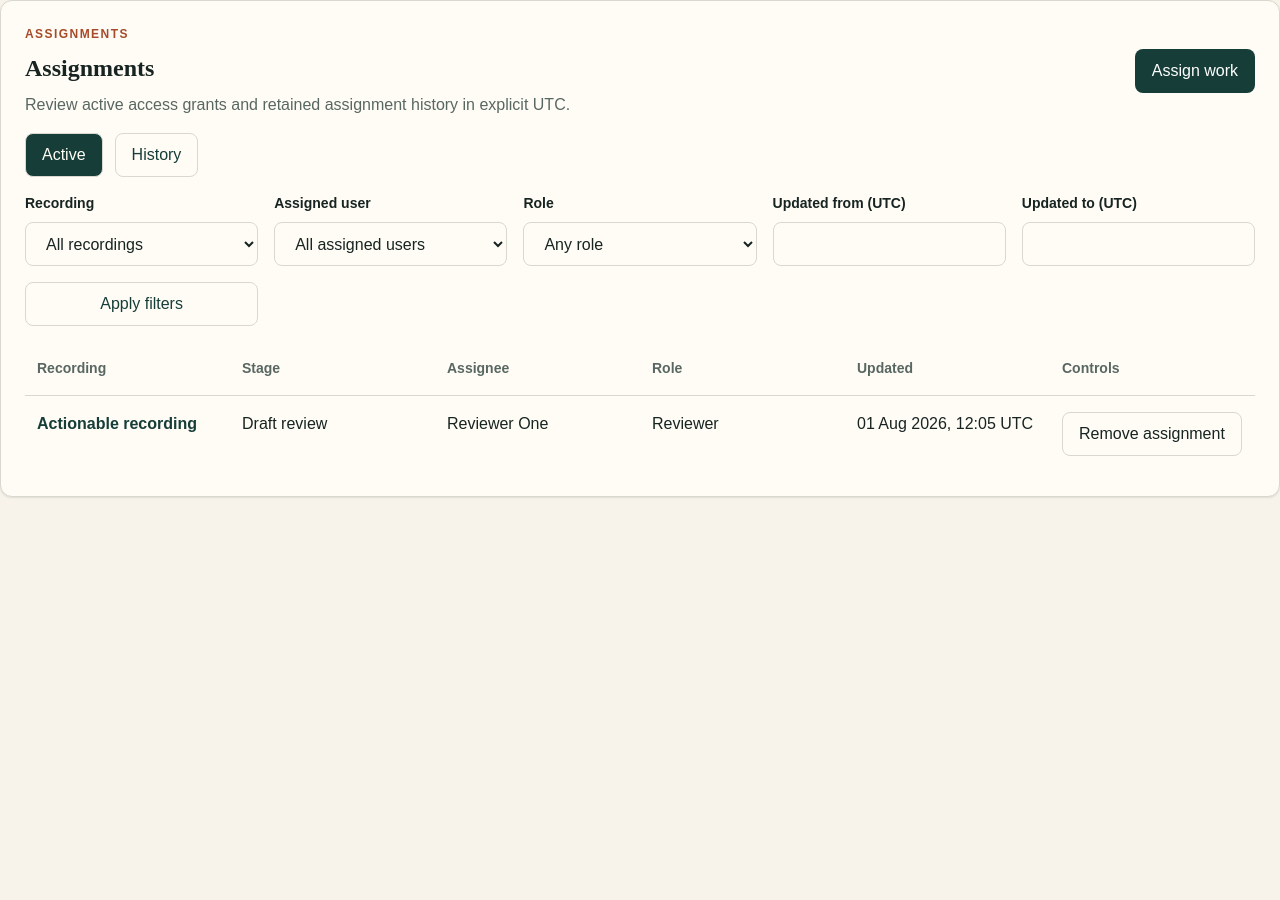
Scenario: AssignmentsSection › filters reviewer and approver users and shows truthful compatibility before submit
Click the button "Assign work" at (1195, 71), box [1135, 49, 1255, 93]
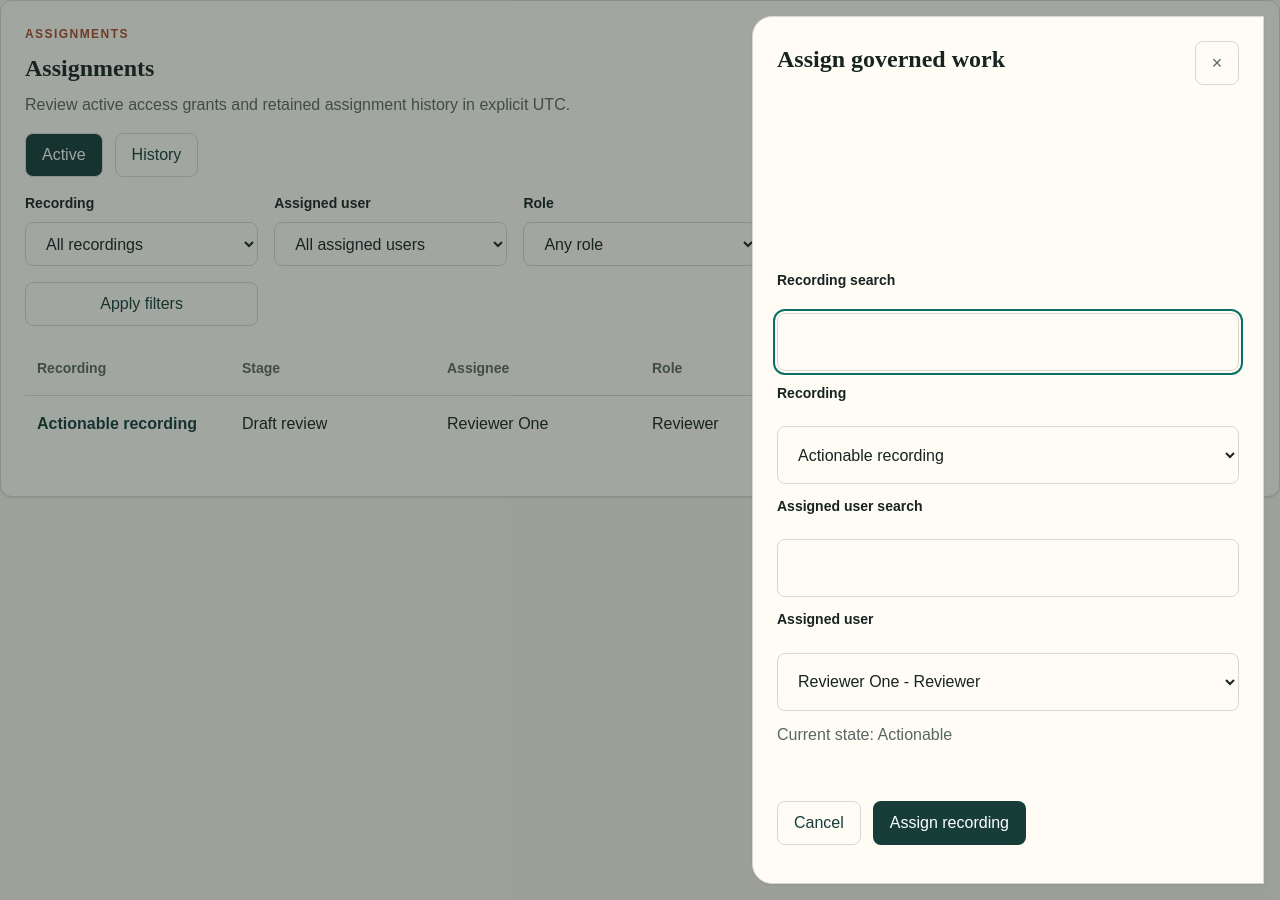
Now the search field labelled "Recording search" is shown, box [777, 313, 1239, 371]
Now the search field labelled "Assigned user search" is shown, box [777, 539, 1239, 598]
Select "Reviewer One - Reviewer" in the dropdown labelled "Assigned user" at (1008, 682), box [777, 653, 1239, 711]
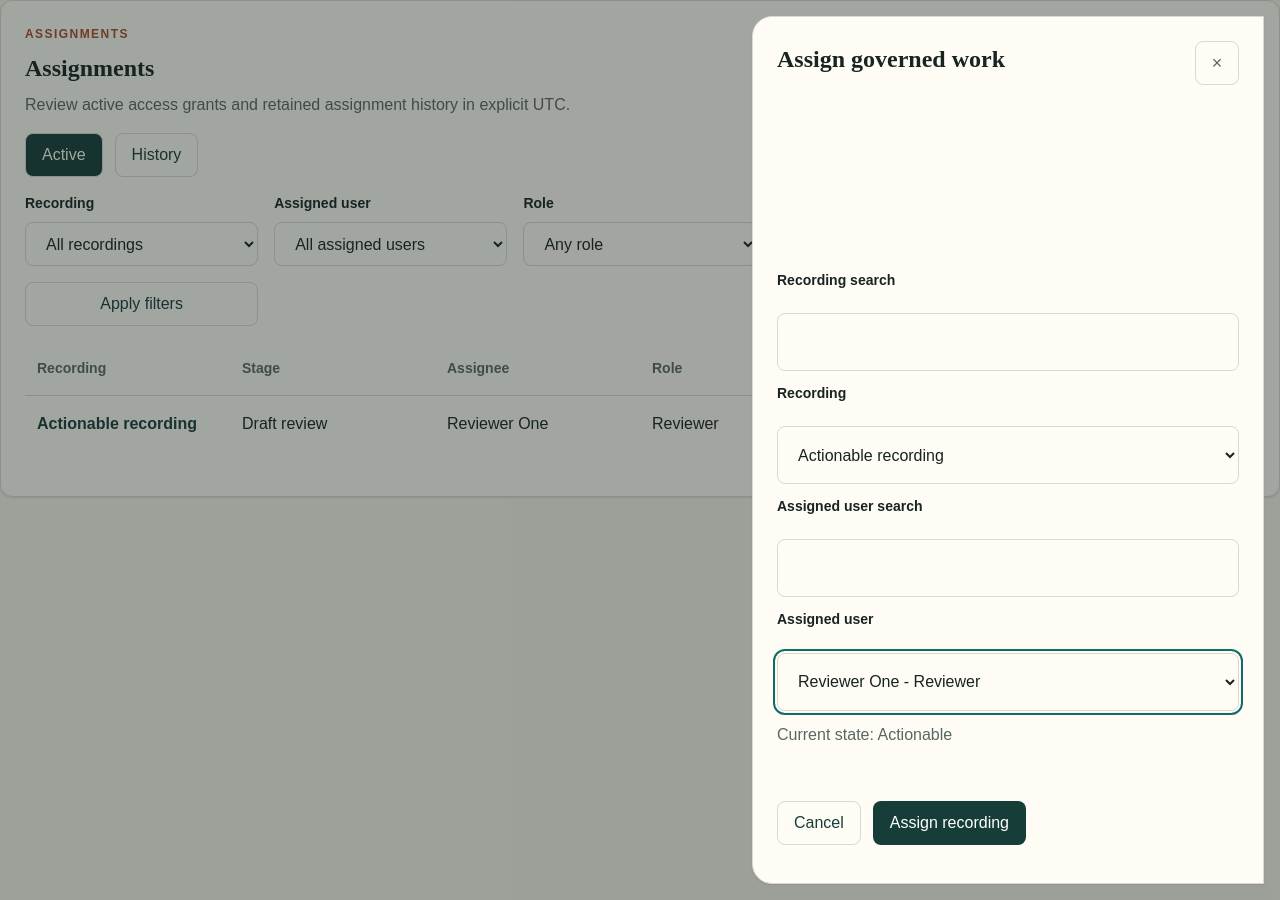
Select "Waiting recording" in the dropdown labelled "Recording" at (1008, 455), box [777, 426, 1239, 484]
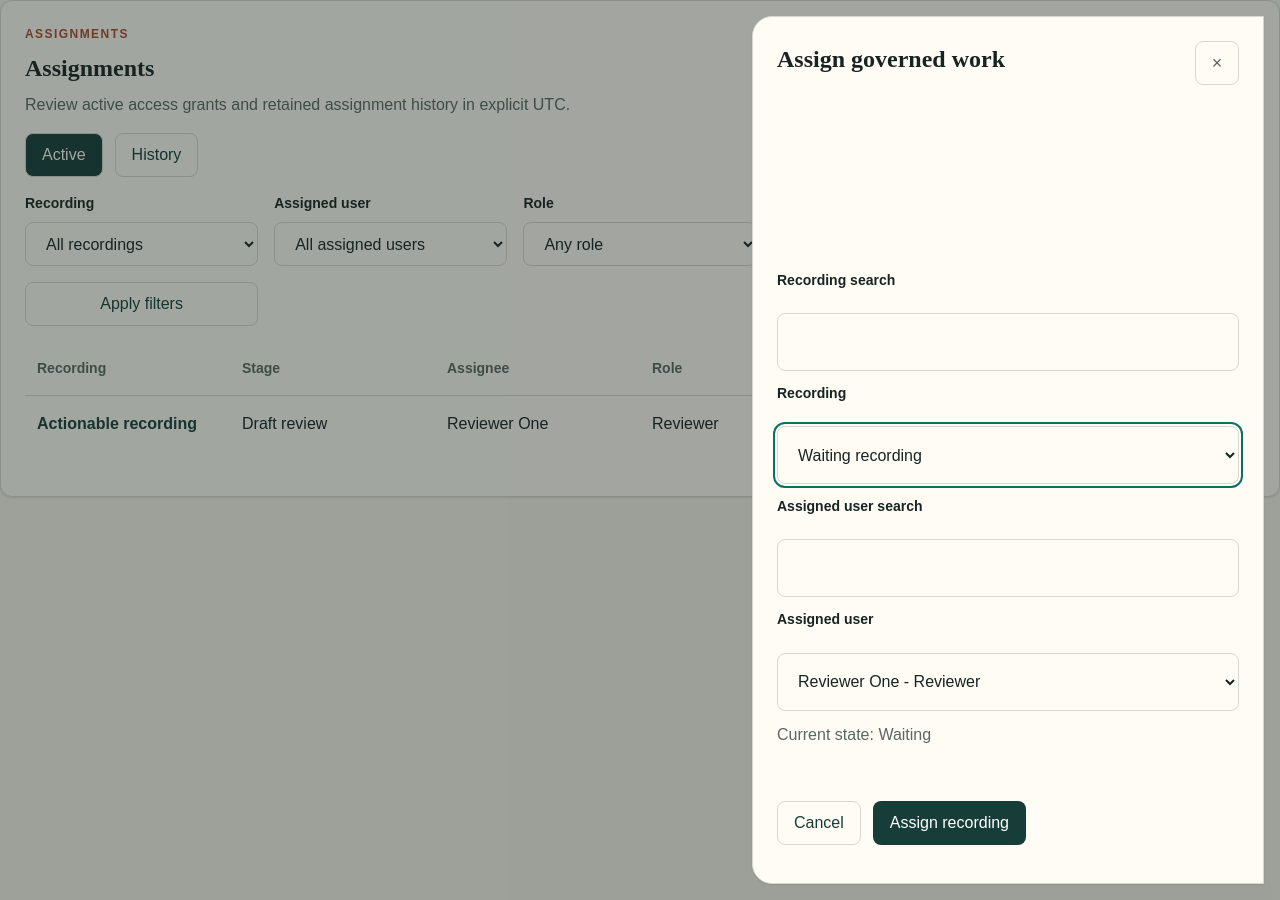
Now the button "Assign recording" is enabled, box [873, 801, 1026, 845]
Now the text "Current state: Waiting" is shown, box [777, 726, 931, 743]
Select "Approved recording" in the dropdown labelled "Recording" at (1008, 455), box [777, 426, 1239, 484]
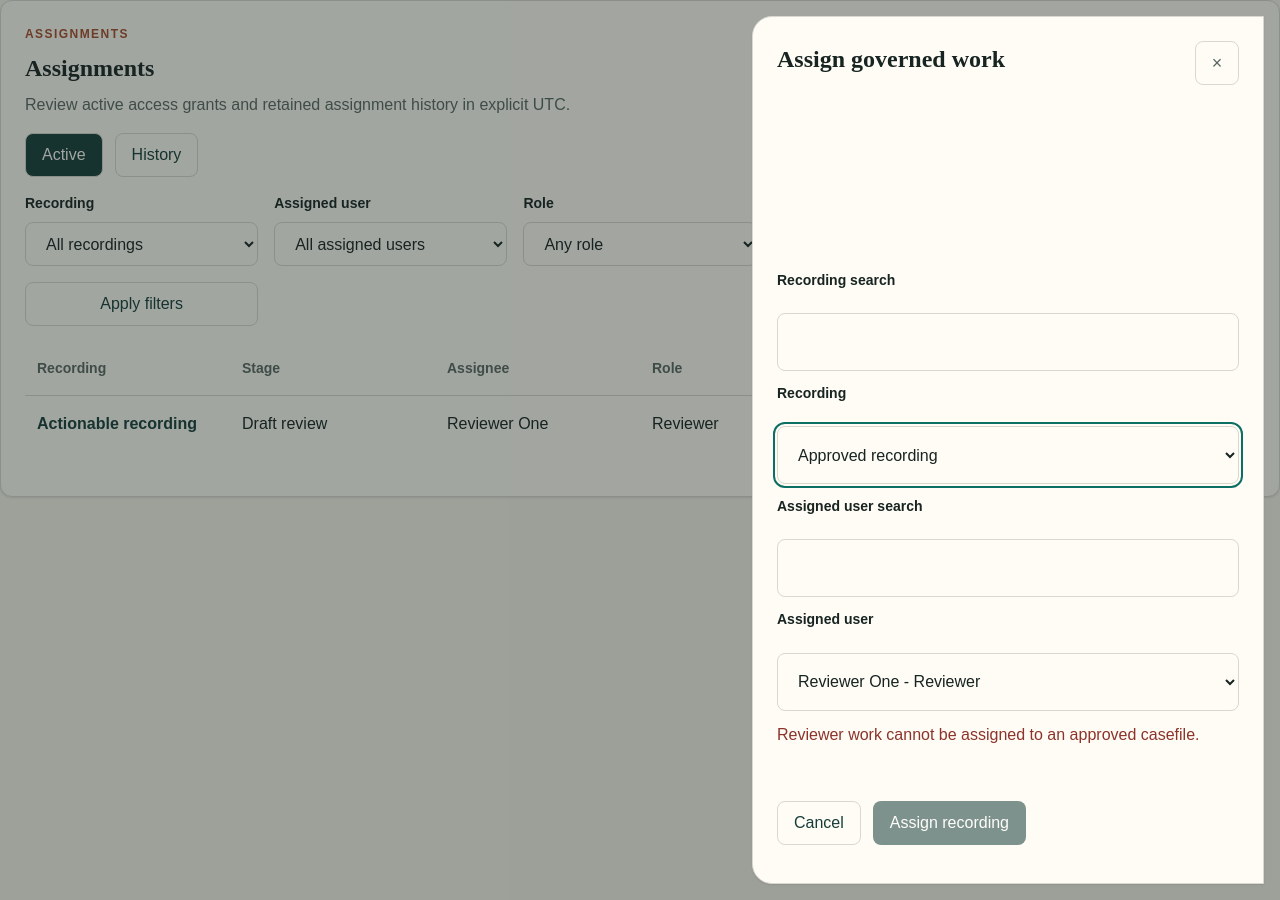
Now the text "Reviewer work cannot be assigned to an approved casefile." is shown, box [777, 726, 1200, 743]
Now the button "Assign recording" is disabled, box [873, 801, 1026, 845]
Select "Approver One - Approver" in the dropdown labelled "Assigned user" at (1008, 682), box [777, 653, 1239, 711]
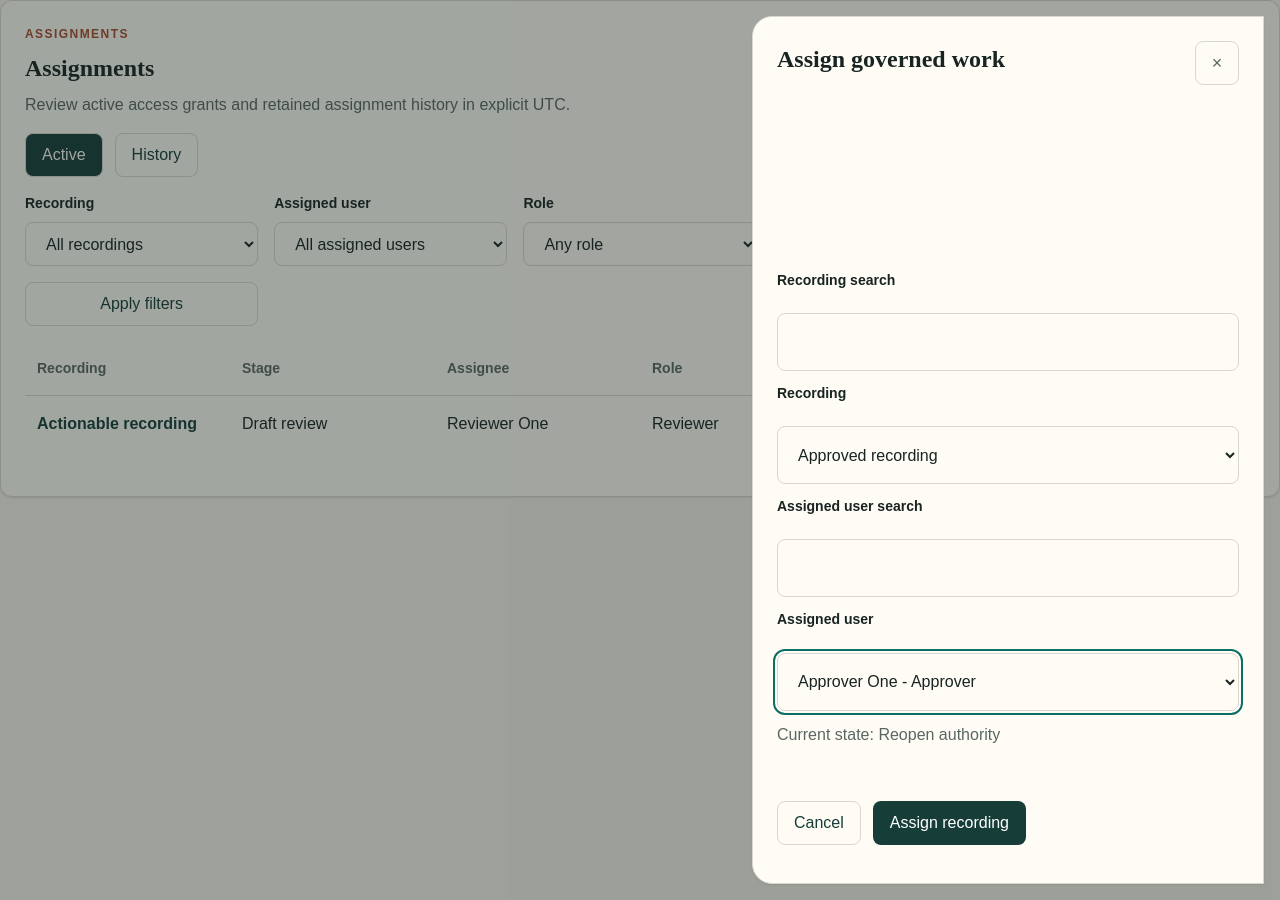
Now the text "Current state: Reopen authority" is shown, box [777, 726, 1000, 743]
Now the button "Assign recording" is enabled, box [873, 801, 1026, 845]
Select "Failed ingest recording" in the dropdown labelled "Recording" at (1008, 455), box [777, 426, 1239, 484]
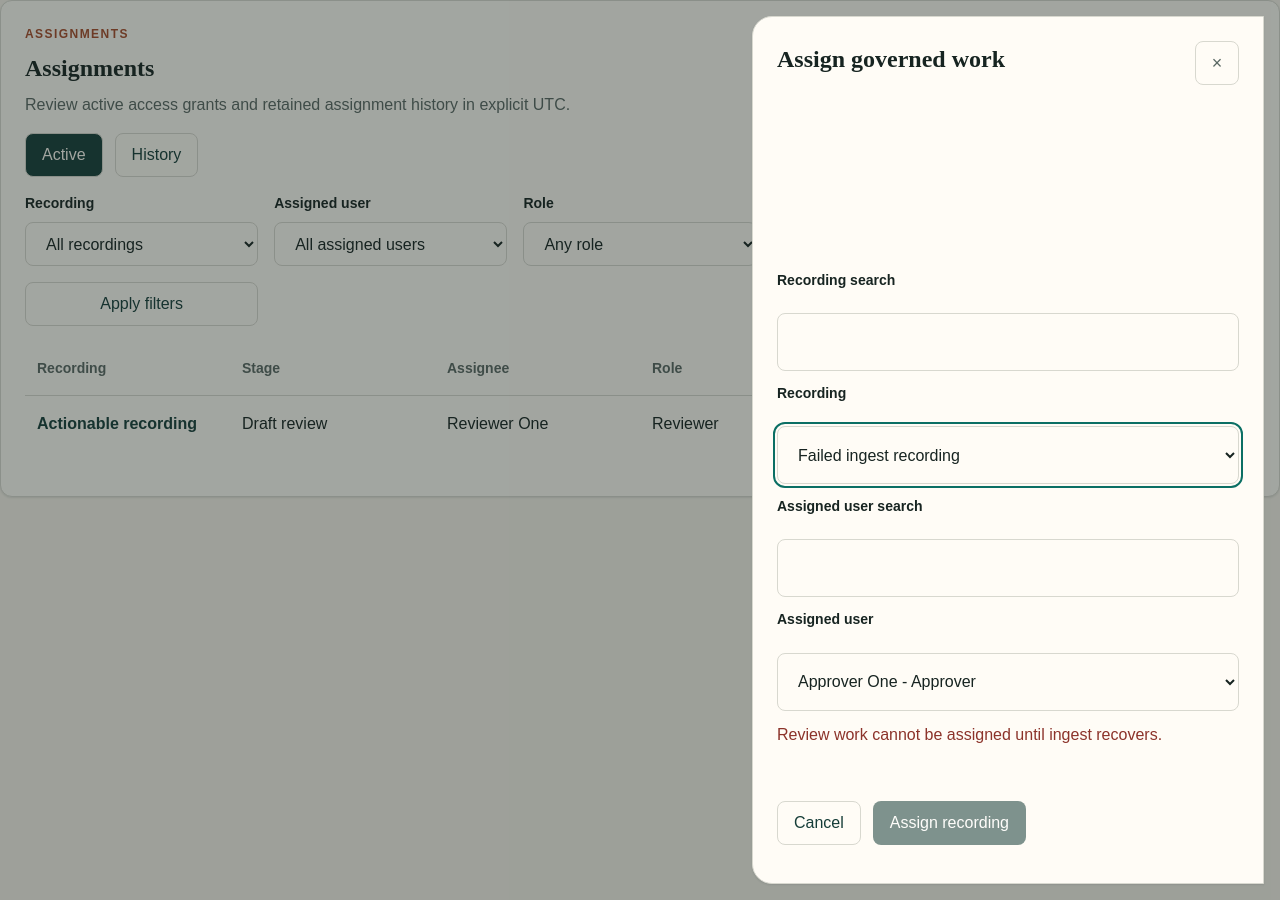
Now the text "Review work cannot be assigned until ingest recovers." is shown, box [777, 726, 1162, 743]
Now the button "Assign recording" is disabled, box [873, 801, 1026, 845]
